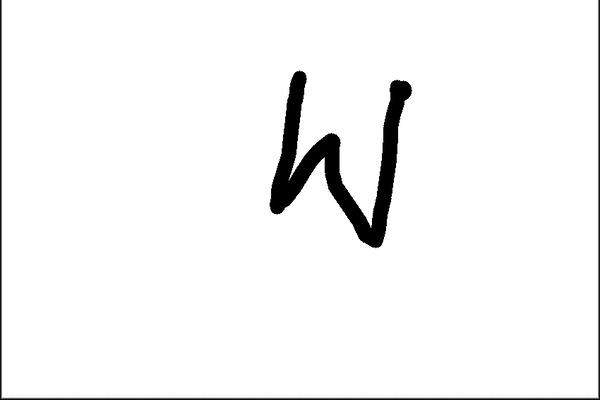w: (259, 62, 417, 263)
